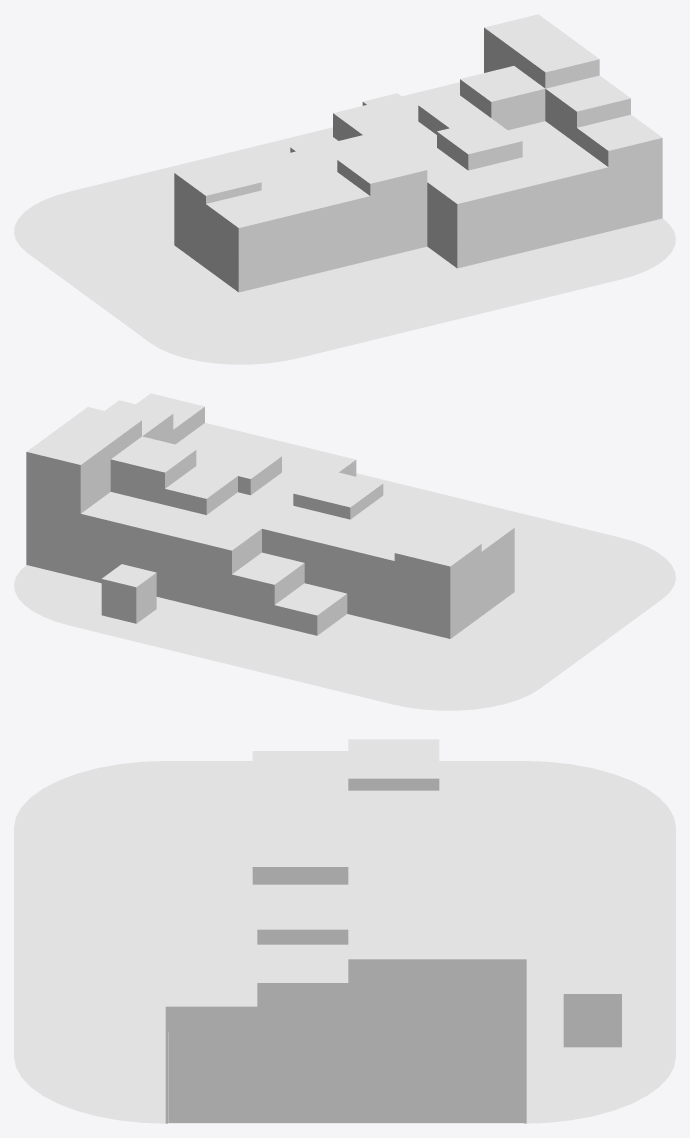
File: m7-zemin-remix.glb
The picture shows the model from 3 angles, top to bottom: view 1: azimuth 30°, elevation 25°; view 2: azimuth 150°, elevation 25°; view 3: azimuth 270°, elevation 25°; orthographic projection. The views are drawn at different scales.
Parts seen in each view (by area): view 1: Mesh_0.002; view 2: Mesh_0.002; view 3: Mesh_0.002.
Boxes of the visible parts, x1,y1,x2,y2 form: Mesh_0.002: [14, 14, 675, 364]; Mesh_0.002: [14, 393, 675, 710]; Mesh_0.002: [14, 739, 675, 1123].
Bounding box in the file's own units: 6.6 × 1.39 × 5.09.
Materials: 1 (1 with a texture image).
